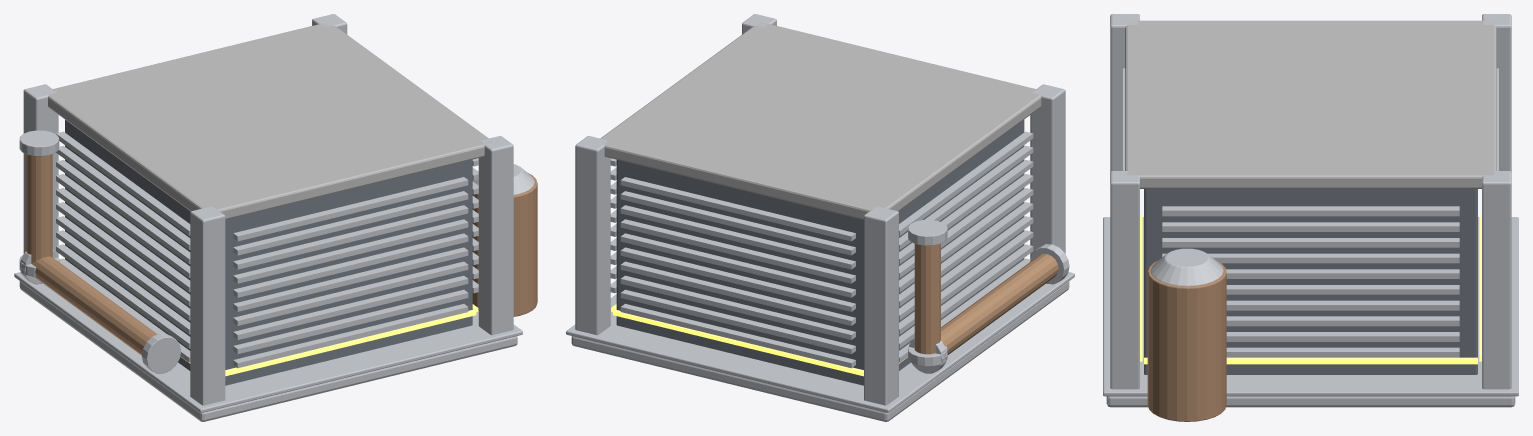
File: mech3.glb
3 renders of one model, left to right at view 1: azimuth 30°, elevation 25°; view 2: azimuth 150°, elevation 25°; view 3: azimuth 270°, elevation 25°, orthographic. The views are drawn at different scales.
Visible parts, largest first — view 1: int_ceiling, ext_core, ext_louver3, ext_louver2, int_columns, int_slab_edge, int_slab, ext_bigpipe, ext_tank, ext_bigpipe2, ext_mech_glow, ext_bigpipe_fl0 (+3 smaller); view 2: int_ceiling, ext_core, ext_louver1, int_columns, ext_louver2, int_slab_edge, int_slab, ext_bigpipe, ext_bigpipe2, ext_mech_glow, ext_bigpipe2_fl1, ext_louver0 (+2 smaller); view 3: int_ceiling, ext_core, ext_louver0, int_columns, ext_tank, int_slab_edge, int_slab, ext_mech_glow, ext_tank_cap.
Part boxes in pixels (<box>): int_ceiling: <box>48,22,492,219</box>; ext_core: <box>65,120,472,385</box>; ext_louver3: <box>233,177,468,368</box>; ext_louver2: <box>56,131,190,362</box>; int_columns: <box>23,14,513,405</box>; int_slab_edge: <box>14,272,522,412</box>; int_slab: <box>19,281,517,421</box>; ext_bigpipe: <box>32,256,157,355</box>; ext_tank: <box>472,173,537,316</box>; ext_bigpipe2: <box>26,154,52,263</box>; ext_mech_glow: <box>180,304,478,376</box>; ext_bigpipe_fl0: <box>141,333,181,373</box>; int_ceiling: <box>600,22,1041,219</box>; ext_core: <box>616,120,1024,385</box>; ext_louver1: <box>620,177,855,368</box>; int_columns: <box>575,14,1065,405</box>; ext_louver2: <box>899,131,1033,362</box>; int_slab_edge: <box>566,272,1074,412</box>; int_slab: <box>571,281,1069,421</box>; ext_bigpipe: <box>941,254,1058,354</box>; ext_bigpipe2: <box>914,243,940,354</box>; ext_mech_glow: <box>611,304,907,376</box>; ext_bigpipe2_fl1: <box>908,220,947,245</box>; ext_louver0: <box>610,158,616,293</box>; int_ceiling: <box>1125,20,1496,188</box>; ext_core: <box>1144,189,1477,374</box>; ext_louver0: <box>1162,206,1459,357</box>; int_columns: <box>1110,14,1511,389</box>; ext_tank: <box>1147,260,1226,421</box>; int_slab_edge: <box>1103,217,1518,396</box>; int_slab: <box>1106,396,1515,407</box>; ext_mech_glow: <box>1140,216,1481,364</box>; ext_tank_cap: <box>1150,248,1223,286</box>.
Bounding box in the file's own units: 4.1 × 2 × 3.36.
